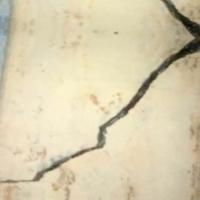crack: (4, 0, 199, 188)
